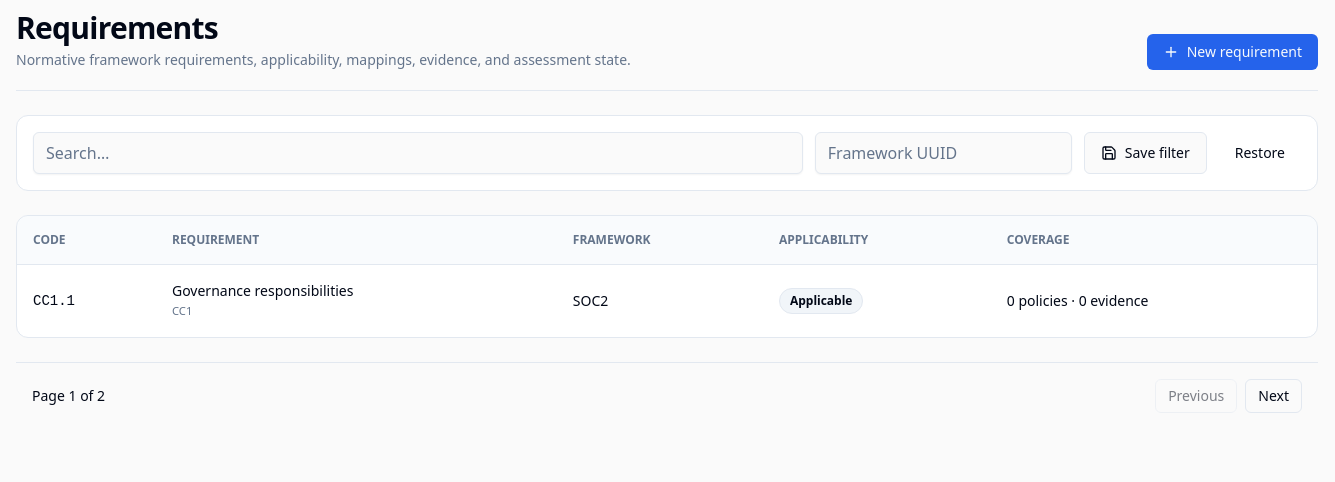
Scenario: compliance management pages › renders requirement grouped list filters and empty create action
The image size is (1335, 482).
Expected: the link "Governance responsibilities" is shown, top-left (172, 281), bottom-right (354, 300)
Expected: the text "0 policies · 0 evidence" is shown, top-left (991, 264), bottom-right (1317, 337)
In the field labelled "Framework UUID": (943, 153) top-left (815, 132), bottom-right (1072, 174), type "framework-1"
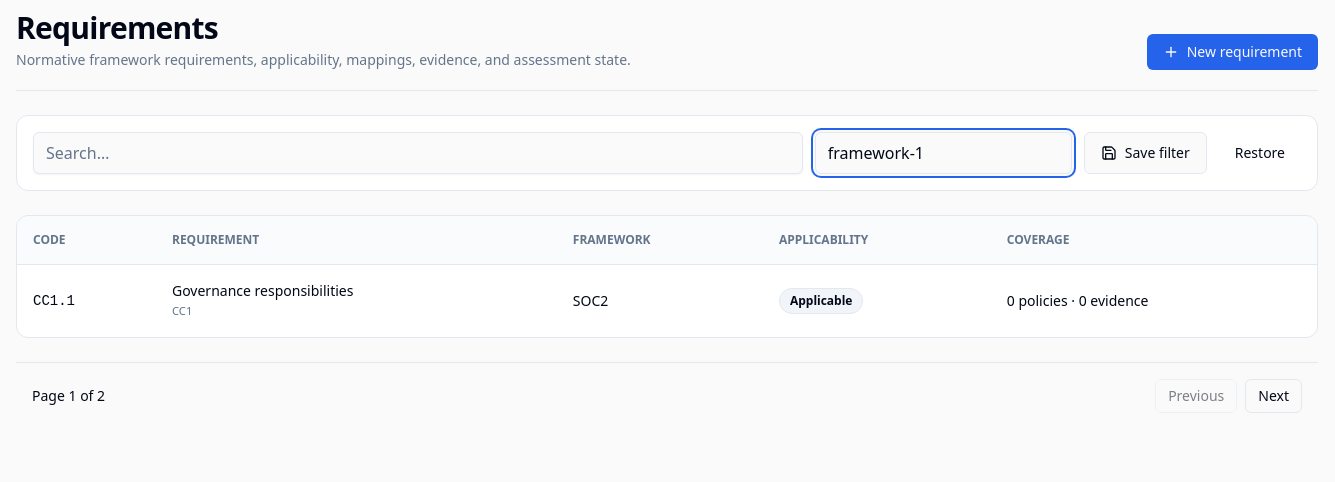
Press Tab
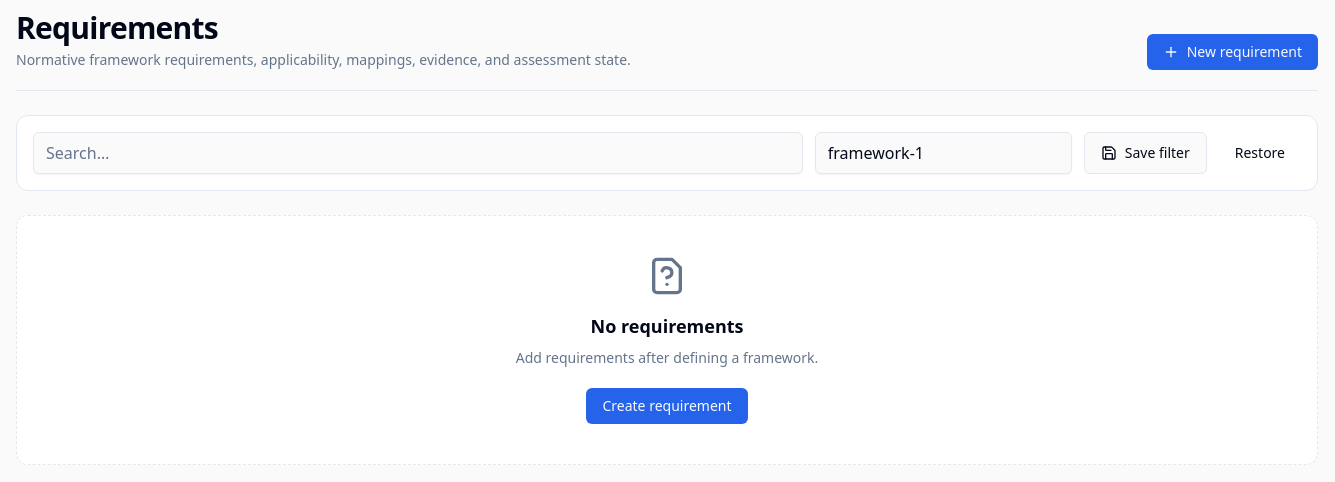
Expected: the heading "No requirements" is shown, top-left (590, 314), bottom-right (744, 338)
Expected: the button "Create requirement" is enabled, top-left (586, 388), bottom-right (748, 424)
